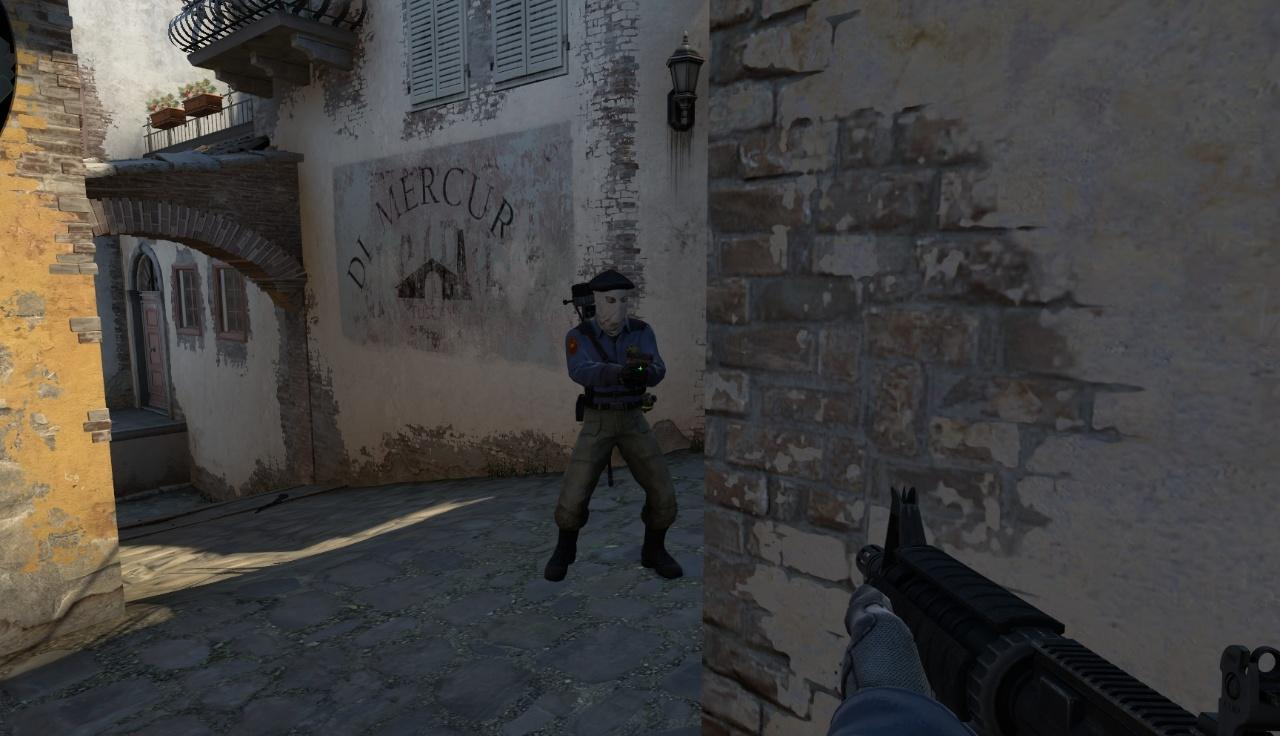rifle: (854, 488, 1280, 736)
tt: (569, 273, 668, 576)
tthead: (590, 278, 632, 334)
